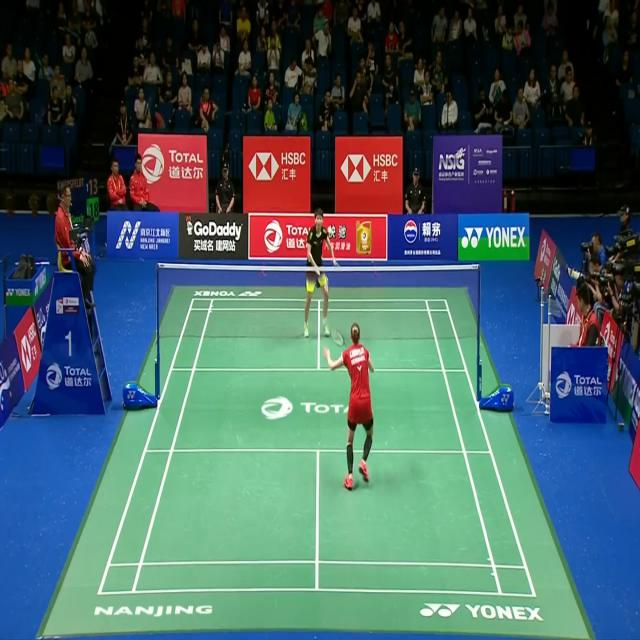Player1: (317, 318, 380, 498)
Player2: (301, 209, 339, 348)
